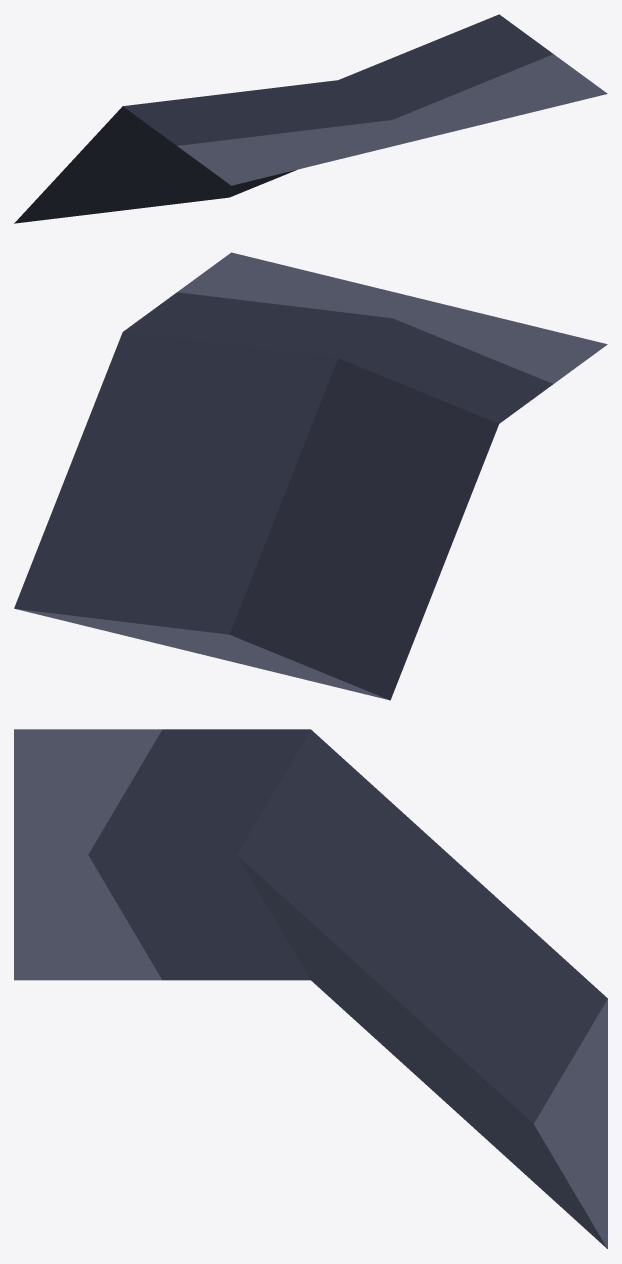
File: terrain_sideCliff.glb
3 views of the same model, one above another, from view 1: azimuth 30°, elevation 25°; view 2: azimuth 150°, elevation 25°; view 3: azimuth 270°, elevation 25° (orthographic). The views are drawn at different scales.
Parts seen in each view (by area): view 1: terrain_sideCliff; view 2: terrain_sideCliff; view 3: terrain_sideCliff.
Boxes of the visible parts, x1=… form: terrain_sideCliff: x1=14, y1=14, x2=607, y2=223; terrain_sideCliff: x1=14, y1=252, x2=607, y2=700; terrain_sideCliff: x1=14, y1=729, x2=607, y2=1248.
Bounding box in the file's own units: 1 × 0.5 × 1.
